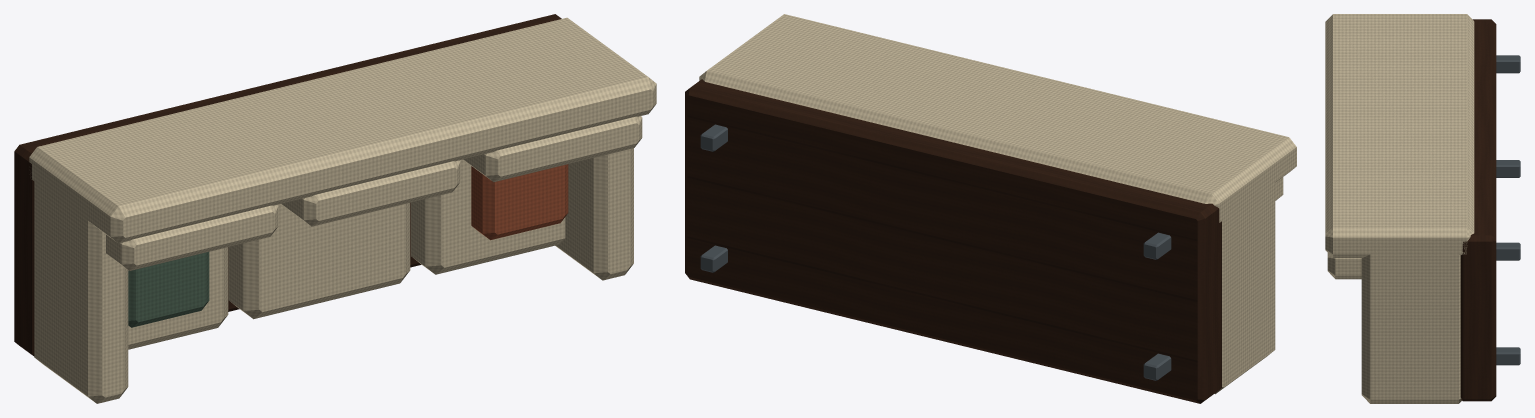
The model's file is terrace_sofa.obj.
3 renders of one model, left to right at view 1: azimuth 30°, elevation 25°; view 2: azimuth 150°, elevation 25°; view 3: azimuth 270°, elevation 25°, orthographic. The views are drawn at different scales.
Visible parts, largest first — view 1: terrace_sofa_fabric, terrace_sofa_walnut, terrace_sofa_clay, terrace_sofa_sage; view 2: terrace_sofa_walnut, terrace_sofa_fabric, terrace_sofa_metal; view 3: terrace_sofa_fabric, terrace_sofa_walnut, terrace_sofa_metal.
Part boxes in pixels (bbox=[...]): terrace_sofa_fabric: bbox=[29, 17, 656, 403]; terrace_sofa_walnut: bbox=[14, 14, 561, 356]; terrace_sofa_clay: bbox=[471, 164, 568, 240]; terrace_sofa_sage: bbox=[128, 252, 209, 327]; terrace_sofa_walnut: bbox=[685, 79, 1221, 403]; terrace_sofa_fabric: bbox=[699, 14, 1296, 394]; terrace_sofa_metal: bbox=[700, 124, 1171, 380]; terrace_sofa_fabric: bbox=[1325, 14, 1474, 403]; terrace_sofa_walnut: bbox=[1460, 19, 1496, 401]; terrace_sofa_metal: bbox=[1496, 55, 1520, 365].
Size of the model in its own units: 108 by 40.5 by 40.5.
Materials: 5 (5 with a texture image).
